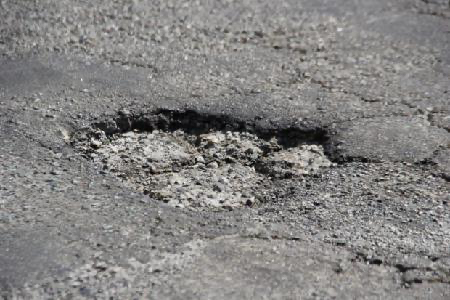pothole: (68, 106, 352, 215)
